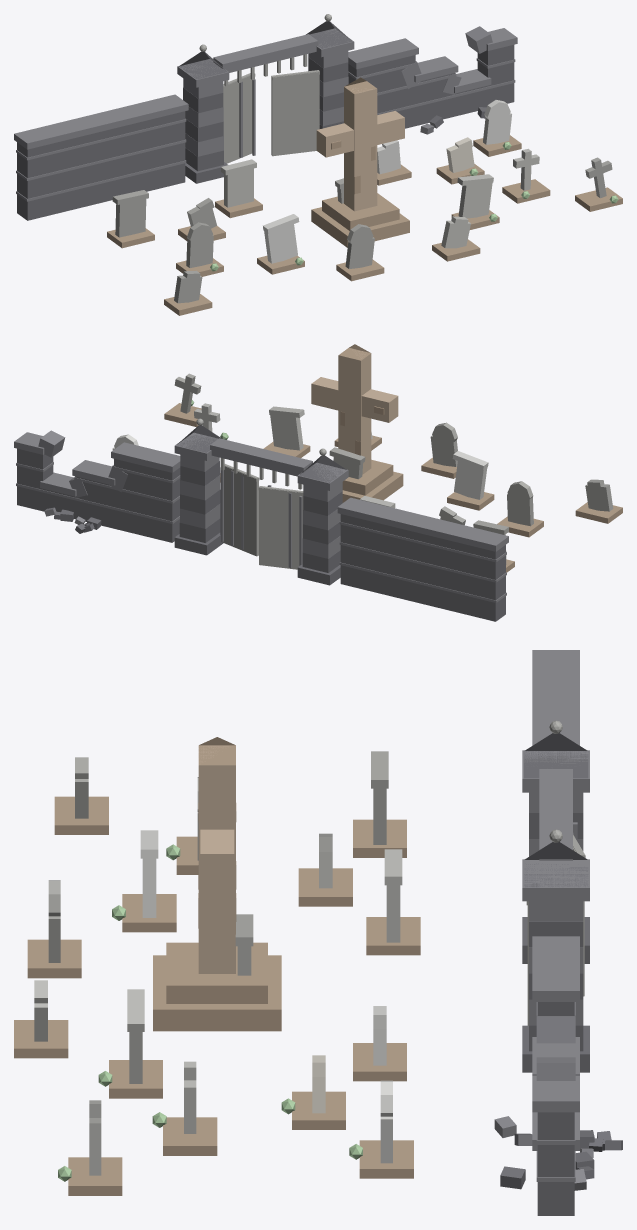
The model's file is hrbitov.glb.
3 renders of one model, top to bottom at view 1: azimuth 30°, elevation 25°; view 2: azimuth 150°, elevation 25°; view 3: azimuth 270°, elevation 25°, orthographic. The views are drawn at different scales.
Parts seen in each view (by area): view 1: Hrbitov_black, Hrbitov_dark, Hrbitov_grey4, Hrbitov_mud2, Hrbitov_mud, Hrbitov_grey3, Hrbitov_grey, Hrbitov_stone2; view 2: Hrbitov_black, Hrbitov_dark, Hrbitov_grey4, Hrbitov_mud2, Hrbitov_mud, Hrbitov_grey3, Hrbitov_grey; view 3: Hrbitov_mud2, Hrbitov_dark, Hrbitov_black, Hrbitov_mud, Hrbitov_grey4, Hrbitov_grey3, Hrbitov_grey, Hrbitov_green2, Hrbitov_stone2.
Boxes of the visible parts, bbox=[...] form: Hrbitov_black: bbox=[17, 21, 514, 220]; Hrbitov_dark: bbox=[14, 26, 517, 201]; Hrbitov_grey4: bbox=[112, 14, 612, 303]; Hrbitov_mud2: bbox=[107, 77, 622, 315]; Hrbitov_mud: bbox=[316, 87, 404, 211]; Hrbitov_grey3: bbox=[221, 148, 539, 248]; Hrbitov_grey: bbox=[263, 100, 511, 263]; Hrbitov_stone2: bbox=[446, 137, 474, 172]; Hrbitov_black: bbox=[17, 425, 505, 621]; Hrbitov_dark: bbox=[14, 430, 508, 602]; Hrbitov_grey4: bbox=[174, 373, 613, 569]; Hrbitov_mud2: bbox=[164, 344, 622, 572]; Hrbitov_mud: bbox=[311, 348, 398, 474]; Hrbitov_grey3: bbox=[194, 403, 395, 508]; Hrbitov_grey: bbox=[112, 434, 488, 499]; Hrbitov_mud2: bbox=[14, 737, 420, 1195]; Hrbitov_dark: bbox=[494, 650, 593, 1190]; Hrbitov_black: bbox=[500, 733, 622, 1215]; Hrbitov_mud: bbox=[198, 746, 235, 973]; Hrbitov_grey4: bbox=[48, 720, 585, 1175]; Hrbitov_grey3: bbox=[34, 849, 402, 1133]; Hrbitov_grey: bbox=[140, 830, 392, 1163]; Hrbitov_green2: bbox=[58, 844, 362, 1181]; Hrbitov_stone2: bbox=[312, 1055, 325, 1113].
Size of the model in its own units: 14.9 by 4.4 by 8.99.
